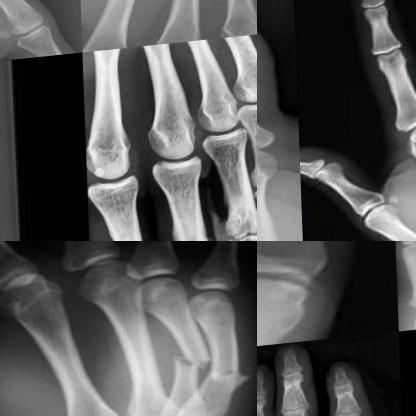fracture: (202, 362, 246, 400), (167, 347, 208, 387)
